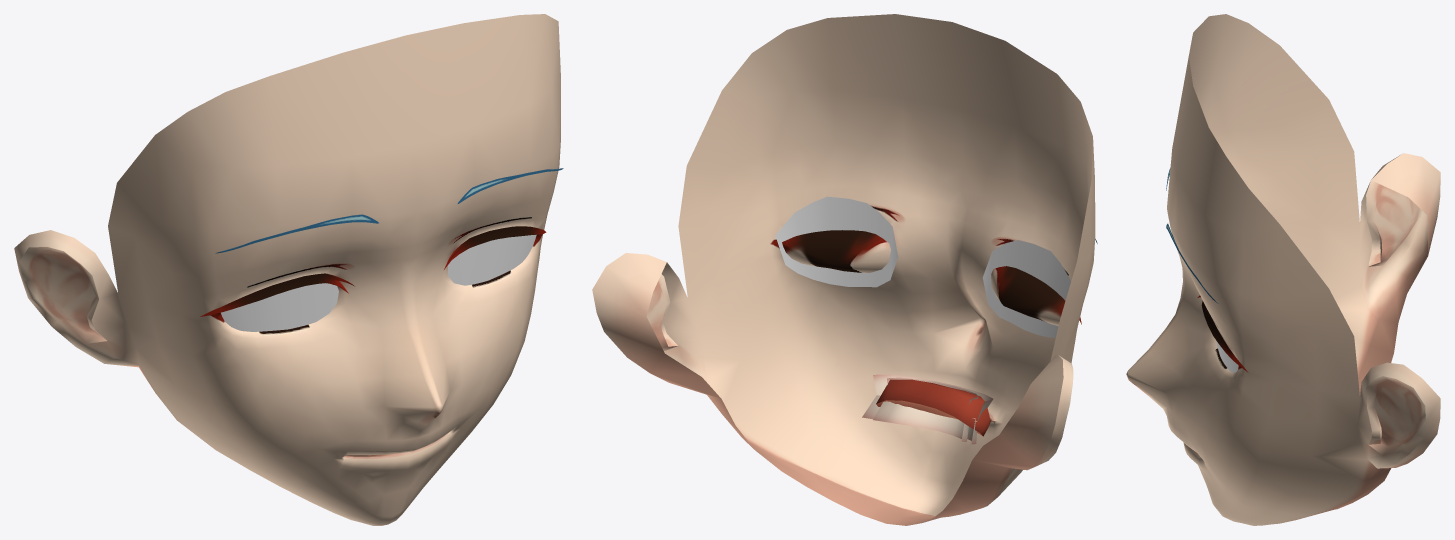
File: Hajime.fbx
The picture shows the model from 3 angles, left to right: view 1: azimuth 30°, elevation 25°; view 2: azimuth 150°, elevation 25°; view 3: azimuth 270°, elevation 25°; orthographic projection. The views are drawn at different scales.
Visible parts, largest first — view 1: M_Head, M_Eye_B_Def, M_Mth_B_Def, M_PupALL_R_A_Def, M_PupALL_L_A_Def, M_Brw_B_Def; view 2: M_Head, M_Eye_B_Def, M_Mth_B_Def, M_PupALL_L_A_Def, M_PupALL_R_A_Def; view 3: M_Head, M_Eye_B_Def, M_Mth_B_Def.
Part boxes in pixels (left/top/right/bottom): M_Head: left=14, top=14, right=560, bottom=385; M_Eye_B_Def: left=135, top=141, right=560, bottom=412; M_Mth_B_Def: left=138, top=342, right=524, bottom=525; M_PupALL_R_A_Def: left=221, top=283, right=338, bottom=331; M_PupALL_L_A_Def: left=447, top=234, right=536, bottom=285; M_Brw_B_Def: left=215, top=168, right=563, bottom=253; M_Head: left=592, top=14, right=1095, bottom=470; M_Eye_B_Def: left=704, top=143, right=1094, bottom=375; M_Mth_B_Def: left=707, top=320, right=1037, bottom=525; M_PupALL_L_A_Def: left=775, top=196, right=898, bottom=287; M_PupALL_R_A_Def: left=982, top=240, right=1070, bottom=337; M_Head: left=1167, top=14, right=1440, bottom=468; M_Eye_B_Def: left=1126, top=126, right=1317, bottom=456; M_Mth_B_Def: left=1127, top=309, right=1398, bottom=525.
Bounding box in the file's own units: 0.1971 × 0.1872 × 0.1143.
Materials: 5 (3 with a texture image).
